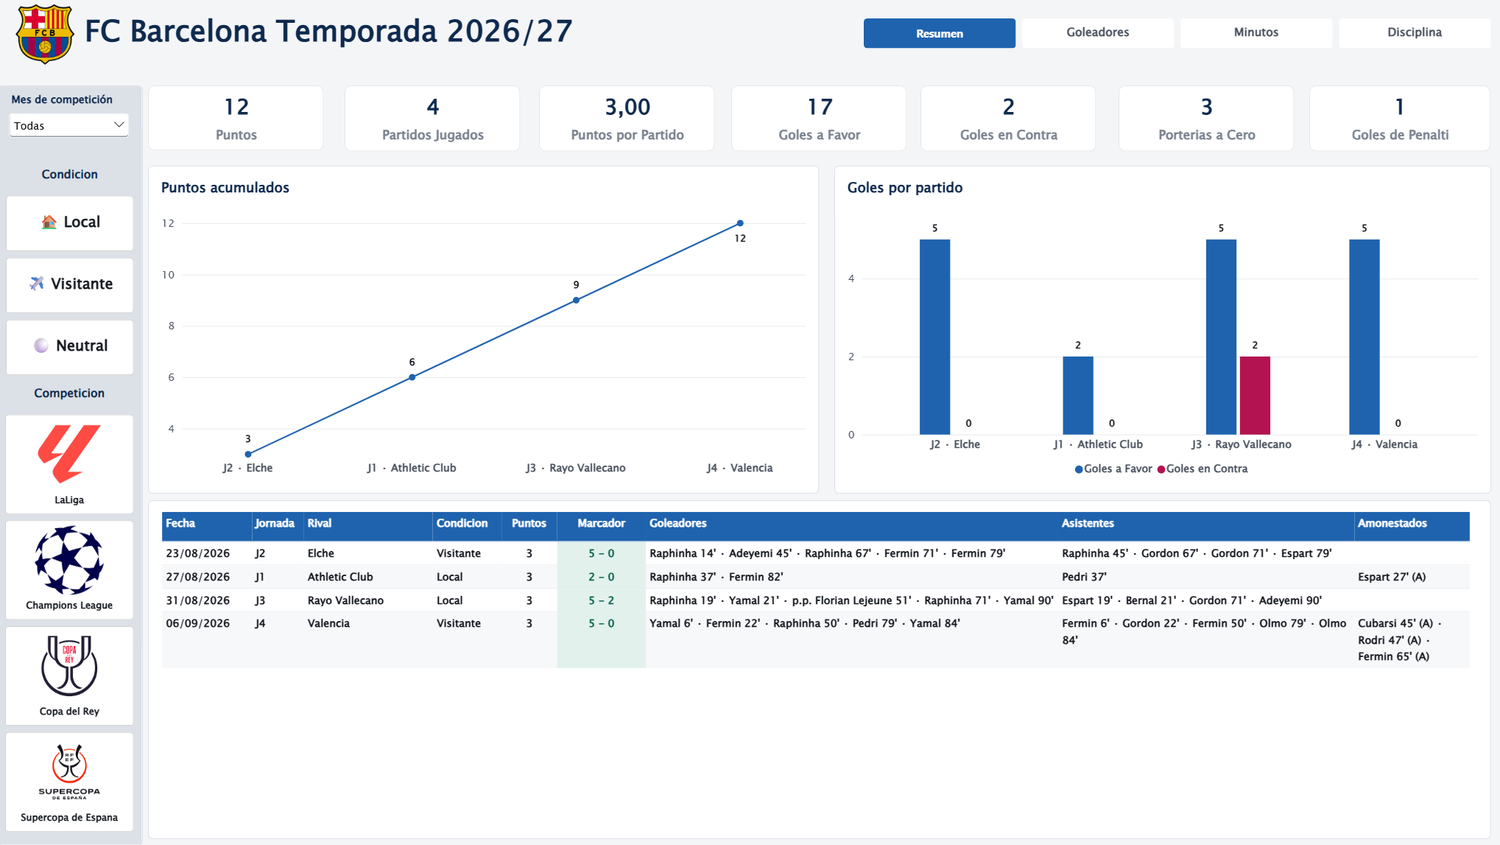

What the dashboard file says about the page in this screenshot:
{"tool":"powerbi","page":{"name":"Resumen","canvas":[1920,1080],"ordinal":0},"visuals":[{"type":"shape","box":[0,110.8,185.7,968.7],"z":0},{"type":"cardVisual","fields":{"Data":["_Medidas.Partidos Jugados"]},"box":[443.3,110.8,224.7,84.1],"z":2000},{"type":"cardVisual","fields":{"Data":["_Medidas.Puntos"]},"box":[192.9,110.8,224.7,83.1],"z":3000},{"type":"cardVisual","fields":{"Data":["_Medidas.Puntos por Partido"]},"box":[691.7,110.8,224.7,84.1],"z":4000},{"type":"cardVisual","fields":{"Data":["_Medidas.Goles a Favor"]},"box":[936.9,110.8,224.7,84.1],"z":5000},{"type":"cardVisual","fields":{"Data":["_Medidas.Goles en Contra"]},"box":[1178.1,110.8,224.7,84.1],"z":6000},{"type":"lineChart","title":"Puntos acumulados","fields":{"Y":["_Medidas.Puntos Acumulados"],"Category":["Dim_Partidos.EtiquetaPartido"]},"box":[192.7,213.3,856.1,418.2],"z":7000},{"type":"clusteredColumnChart","title":"Goles por partido","fields":{"Y":["_Medidas.Goles a Favor","_Medidas.Goles en Contra"],"Category":["Dim_Partidos.EtiquetaPartido"]},"box":[1067.6,213.3,838.4,418.2],"z":8000},{"type":"tableEx","fields":{"Values":["Dim_Partidos.Fecha","Dim_Partidos.Jornada","Dim_Partidos.Rival","Dim_Partidos.Condicion","_Medidas.Puntos","_Medidas.Marcador","_Medidas.Goleadores","_Medidas.Asistentes","_Medidas.Amonestados"]},"box":[192.7,640,1713.2,432.3],"z":9000},{"type":"advancedSlicerVisual","fields":{"Values":["Dim_Competiciones.Competicion"]},"box":[10.3,492.6,164.2,572.6],"z":10000},{"type":"advancedSlicerVisual","fields":{"Values":["Dim_Partidos.CondicionIcono"]},"box":[11.3,213.4,163.2,267.8],"z":11000},{"type":"slicer","title":"Rango de fechas","fields":{"Values":["Dim_Calendario.MesLargo"]},"box":[10.3,118,163.2,75.9],"z":12000},{"type":"cardVisual","fields":{"Data":["_Medidas.Porterias a Cero"]},"box":[1430.5,110.8,224.7,84.1],"z":13000},{"type":"cardVisual","fields":{"Data":["_Medidas.Goles de Penalti"]},"box":[1673.7,110.8,231.9,84.1],"z":14000},{"type":"textbox","box":[111.3,13.1,742.7,61.8],"z":15000},{"type":"image","box":[11.2,5.6,100.3,80],"z":16000},{"type":"pageNavigator","box":[1105.2,25.7,800.4,39],"z":17000}]}

Visuals, with their boxes in screenshot pixels (x1, y1, x2, y2), scaled from the page's 1920x1080 canvas onto the 1500x845 screenshot:
shape: <region>0, 87, 145, 844</region>
cardVisual - _Medidas.Partidos Jugados: <region>346, 87, 522, 152</region>
cardVisual - _Medidas.Puntos: <region>151, 87, 326, 152</region>
cardVisual - _Medidas.Puntos por Partido: <region>540, 87, 716, 152</region>
cardVisual - _Medidas.Goles a Favor: <region>732, 87, 907, 152</region>
cardVisual - _Medidas.Goles en Contra: <region>920, 87, 1096, 152</region>
"Puntos acumulados" lineChart: <region>151, 167, 819, 494</region>
"Goles por partido" clusteredColumnChart: <region>834, 167, 1489, 494</region>
tableEx - Dim_Partidos.Fecha x Dim_Partidos.Jornada: <region>151, 501, 1489, 839</region>
advancedSlicerVisual - Dim_Competiciones.Competicion: <region>8, 385, 136, 833</region>
advancedSlicerVisual - Dim_Partidos.CondicionIcono: <region>9, 167, 136, 376</region>
"Rango de fechas" slicer: <region>8, 92, 136, 152</region>
cardVisual - _Medidas.Porterias a Cero: <region>1118, 87, 1293, 152</region>
cardVisual - _Medidas.Goles de Penalti: <region>1308, 87, 1489, 152</region>
textbox: <region>87, 10, 667, 59</region>
image: <region>9, 4, 87, 67</region>
pageNavigator: <region>863, 20, 1489, 51</region>
